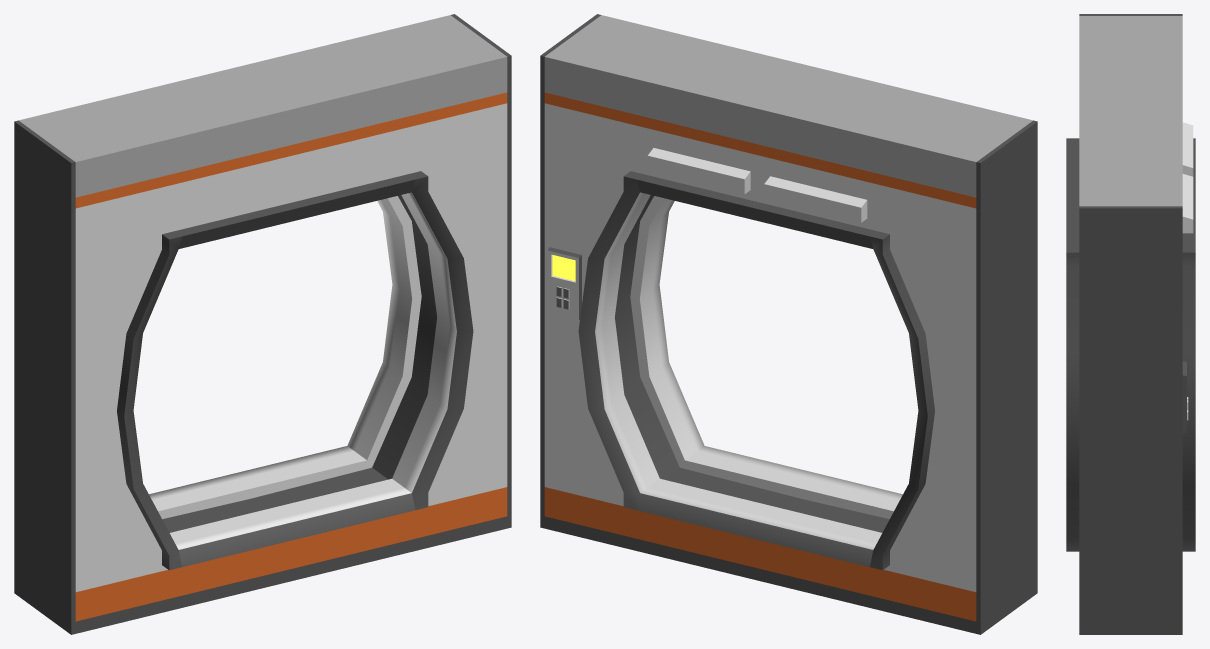
The model's file is OpenDoor.fbx.
The picture shows the model from 3 angles, left to right: view 1: azimuth 30°, elevation 25°; view 2: azimuth 150°, elevation 25°; view 3: azimuth 270°, elevation 25°; orthographic projection. The views are drawn at different scales.
Visible parts, largest first — view 1: Cube.017; view 2: Cube.017; view 3: Cube.017.
Part boxes in pixels (x1,y1,x2,y2): Cube.017: (14,14,511,634); Cube.017: (540,14,1037,634); Cube.017: (1066,14,1195,634).
Size of the model in its own units: 293 by 300 by 82.54.
